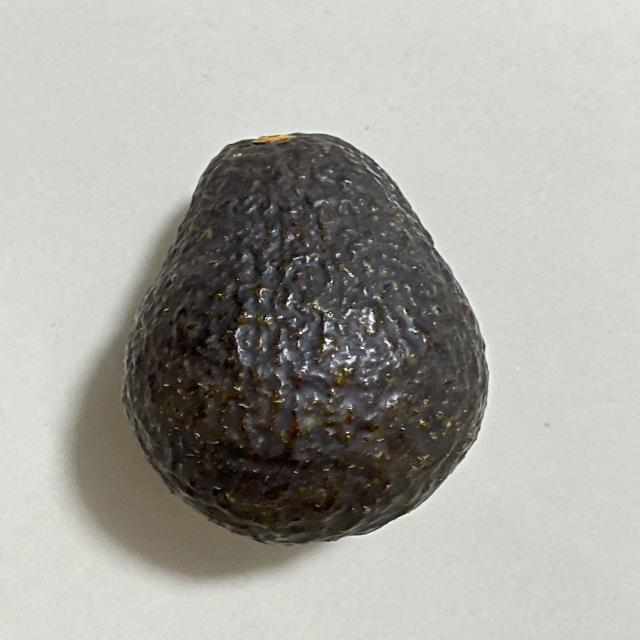Level2: (114, 127, 494, 553)
